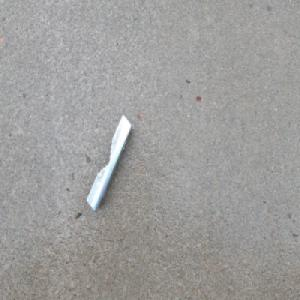ClampPart: (86, 112, 133, 212)
